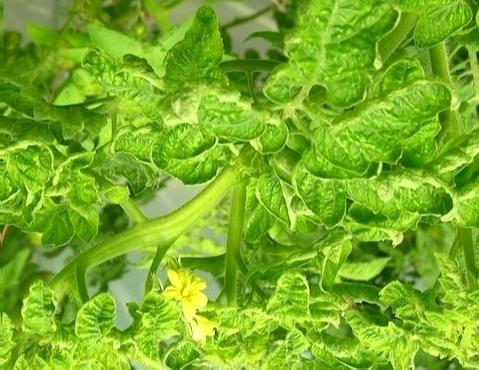Tomato leaf yellow virus: (121, 82, 290, 187), (291, 139, 461, 233), (321, 65, 459, 172), (273, 0, 391, 113), (194, 249, 341, 339), (155, 0, 242, 100), (108, 289, 183, 370), (339, 298, 431, 362), (0, 138, 58, 210), (245, 171, 309, 226), (14, 271, 62, 344), (69, 281, 123, 342)
